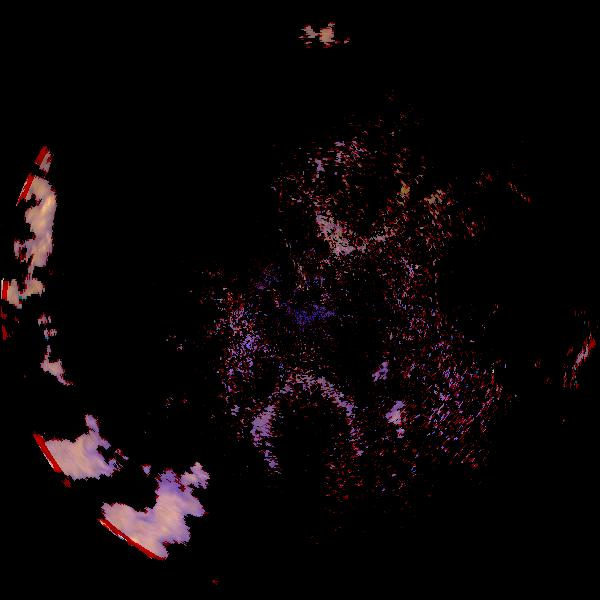roost: (236, 360, 380, 504)
